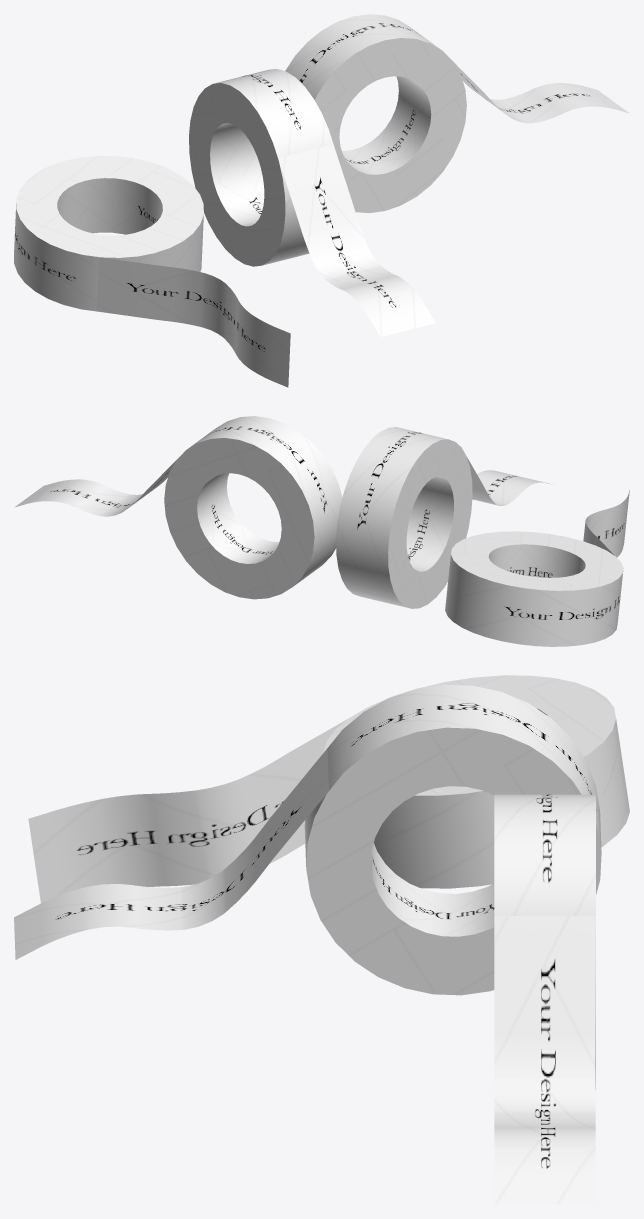
Rendered from Box_Tape A-6.glb.
3 views of the same model, one above another, from view 1: azimuth 30°, elevation 25°; view 2: azimuth 150°, elevation 25°; view 3: azimuth 270°, elevation 25° (orthographic). The views are drawn at different scales.
Visible parts, largest first — view 1: Tape_roll.002, Tape_roll, Tape_roll.001; view 2: Tape_roll.001, Tape_roll, Tape_roll.002; view 3: Tape_roll, Tape_roll.002, Tape_roll.001.
Boxes of the visible parts, box(x1,y1,x2,y2) form: Tape_roll.002: box(14, 155, 290, 387); Tape_roll: box(189, 69, 435, 336); Tape_roll.001: box(285, 14, 629, 213); Tape_roll.001: box(14, 416, 342, 599); Tape_roll: box(336, 427, 553, 608); Tape_roll.002: box(445, 489, 629, 646); Tape_roll: box(14, 684, 601, 995); Tape_roll.002: box(28, 675, 629, 903); Tape_roll.001: box(494, 794, 595, 1204).
Size of the model in its own units: 0.2203 by 0.0633 by 0.1229.
Materials: 1 (1 with a texture image).
